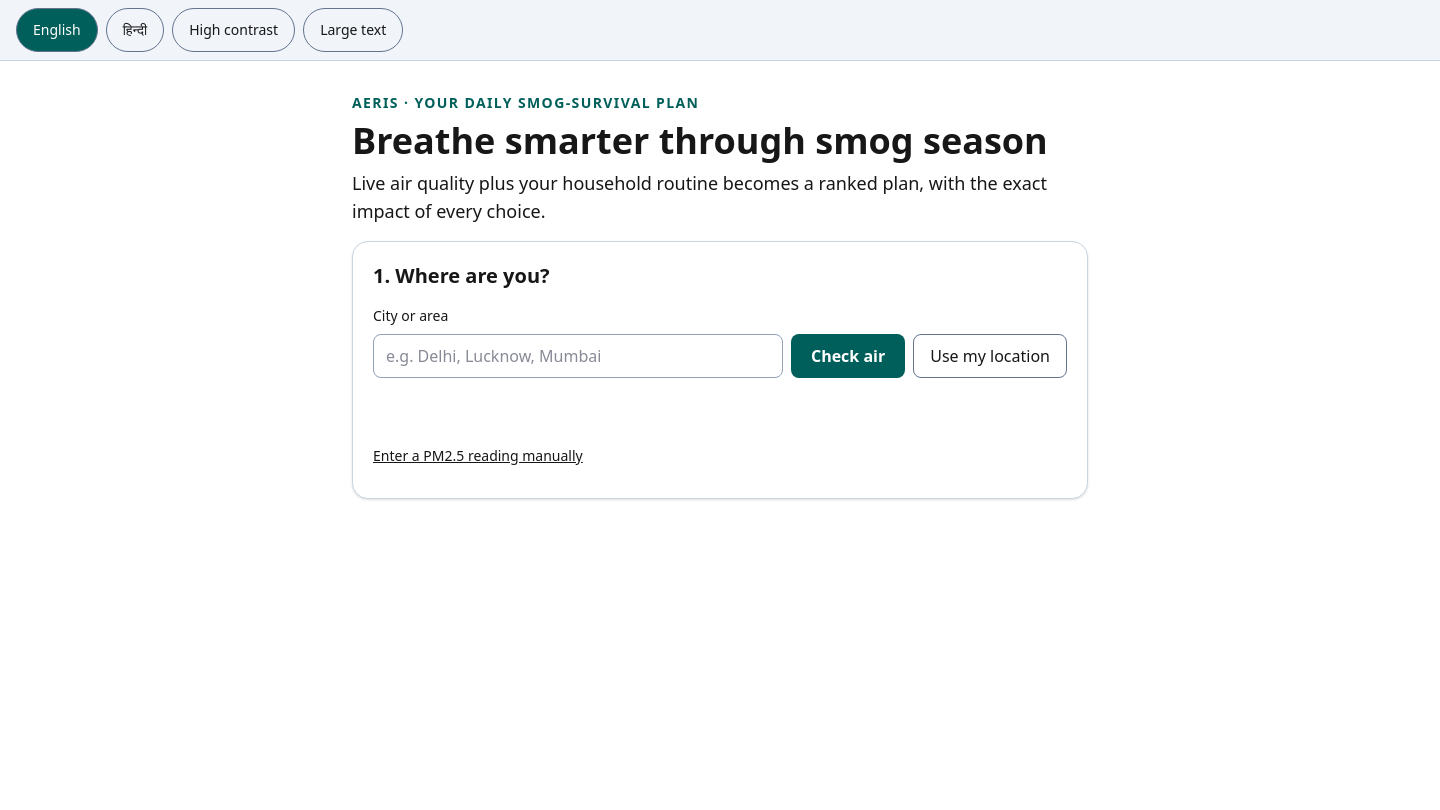
it: household form › clamps member counts to the allowed range
The width and height of the screenshot is (1440, 810).
Step 1. Type "Delhi" into the field labelled "City or area" → [578, 356], box top-left (373, 334), bottom-right (783, 378)
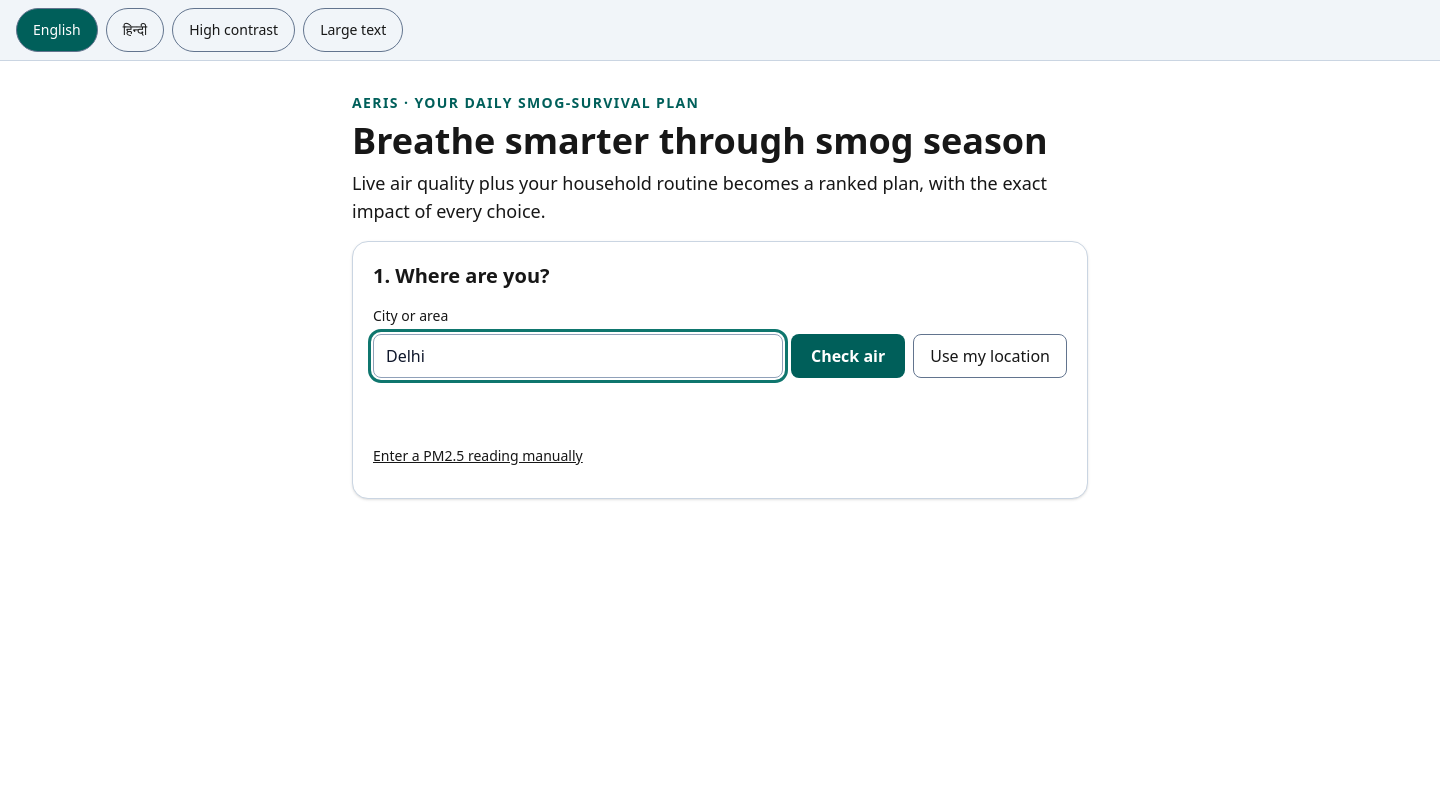
Step 2. Click the button "Check air" → [848, 356], box top-left (791, 334), bottom-right (905, 378)
(page scrolled)
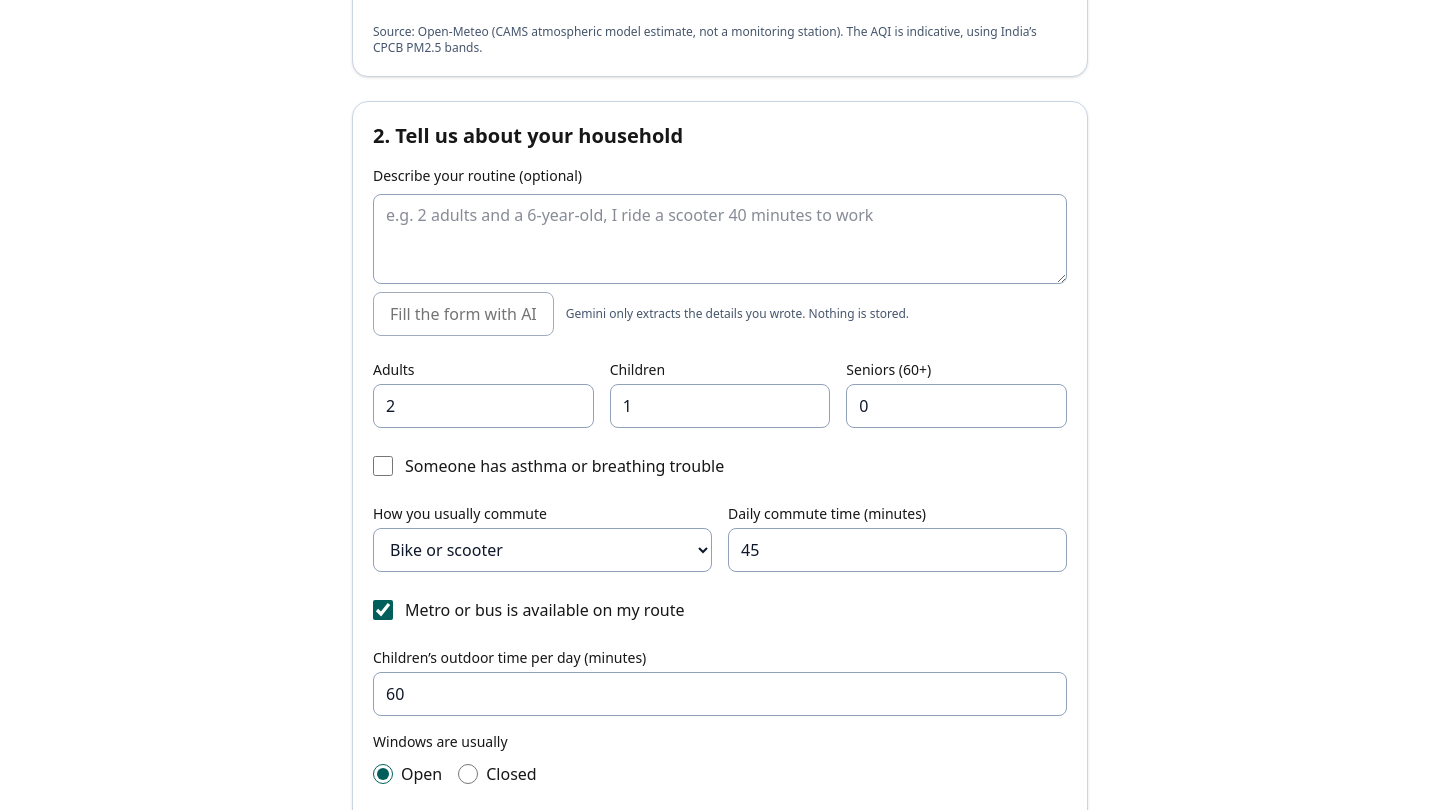
Step 3. Replace the text in the number field labelled "Adults" with "99" → [483, 406], box top-left (373, 384), bottom-right (594, 428)
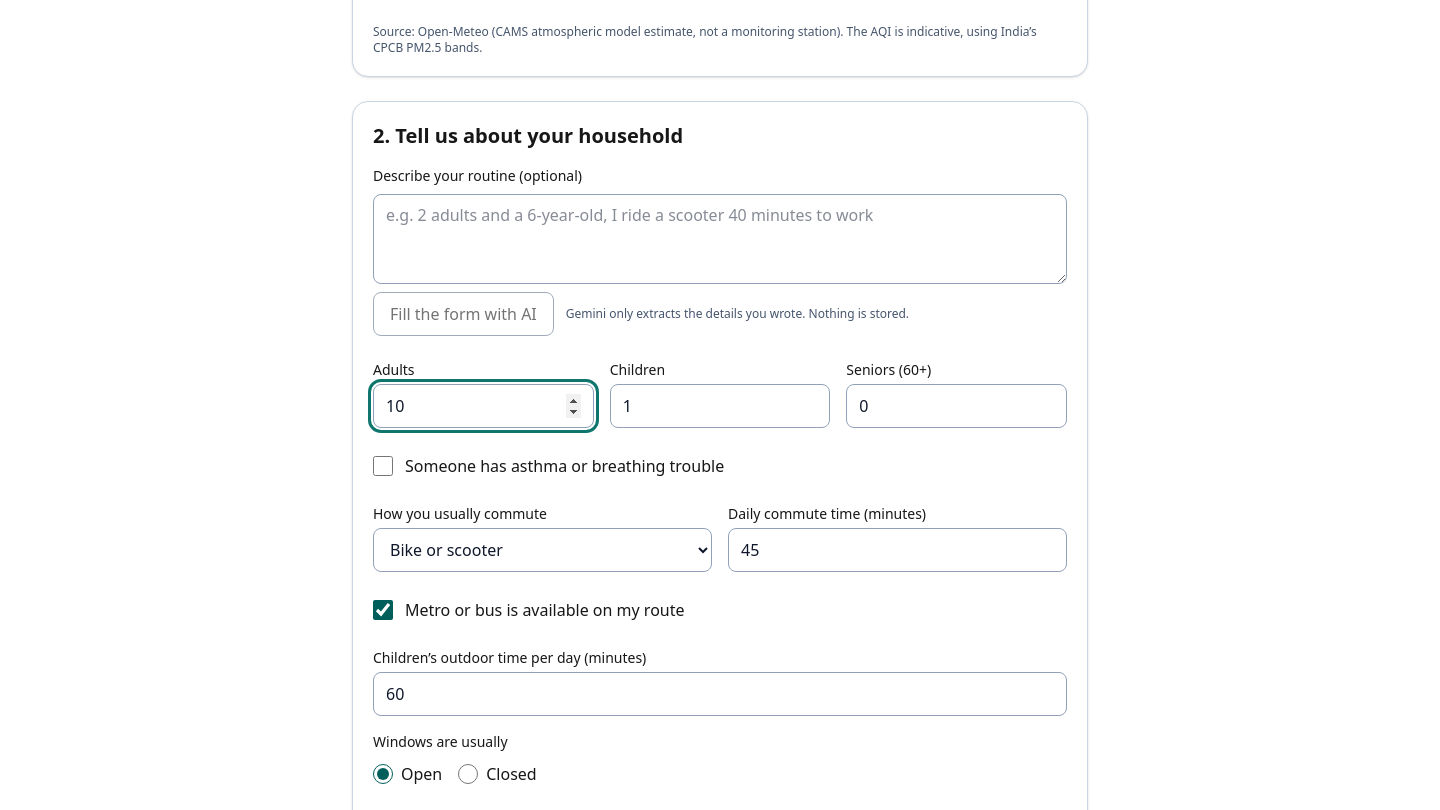
Now the number field labelled "Adults" holds "10", box top-left (373, 384), bottom-right (594, 428)
